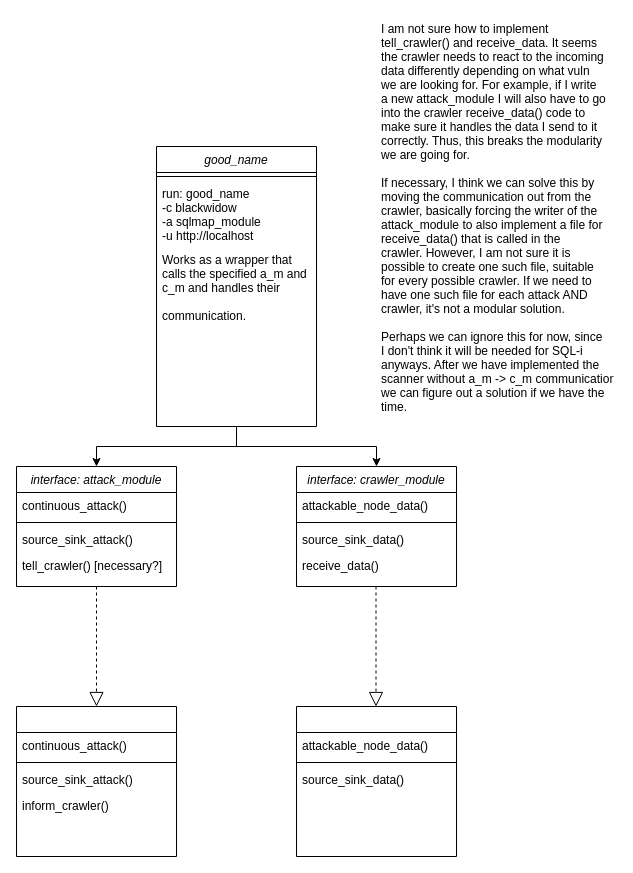
The diagram is 633 pixels wide and 873 high, and some of its shapes have lost their labels. Here are the shapes that lost their labels. From the top down, the box of each, then its label:
(16, 706, 176, 856): sqlmap_module
(296, 706, 456, 856): blackwidow
